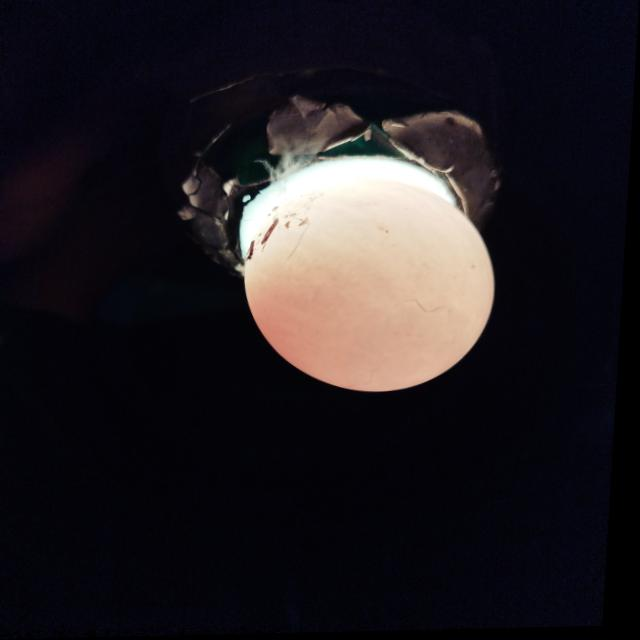Rachadura: (288, 208, 301, 220), (297, 205, 310, 214), (414, 302, 424, 308), (310, 200, 316, 205), (440, 309, 447, 311), (424, 308, 427, 311), (432, 313, 437, 314), (427, 311, 429, 313), (429, 313, 432, 313)
